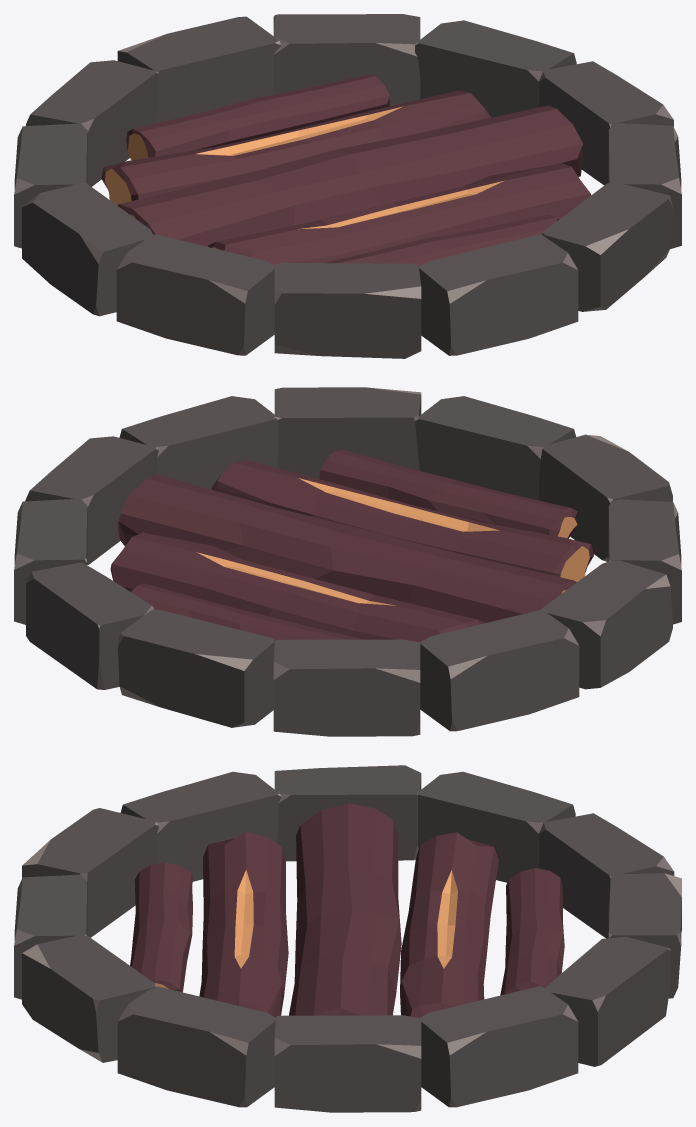
Rendered from Fogueira2.fbx.
3 renders of one model, top to bottom at view 1: azimuth 30°, elevation 25°; view 2: azimuth 150°, elevation 25°; view 3: azimuth 270°, elevation 25°, orthographic.
Parts seen in each view (by area): view 1: Cylinder.002; view 2: Cylinder.002; view 3: Cylinder.002.
Boxes of the visible parts, bbox=[...] form: Cylinder.002: bbox=[14, 14, 681, 358]; Cylinder.002: bbox=[14, 387, 681, 736]; Cylinder.002: bbox=[14, 765, 681, 1112].
Bounding box in the file's own units: 152 × 18 × 152.
